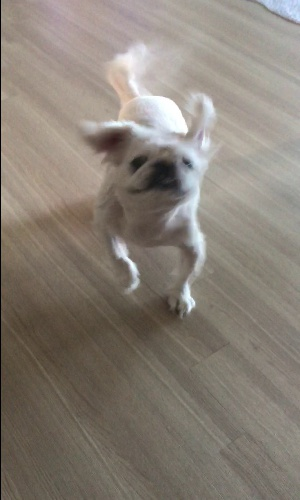ddubi: (76, 37, 219, 325)
